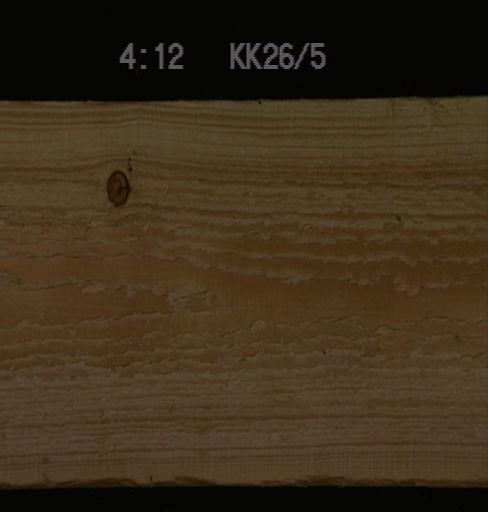dry_knot: (103, 167, 131, 207)
wave: (0, 463, 486, 485)
